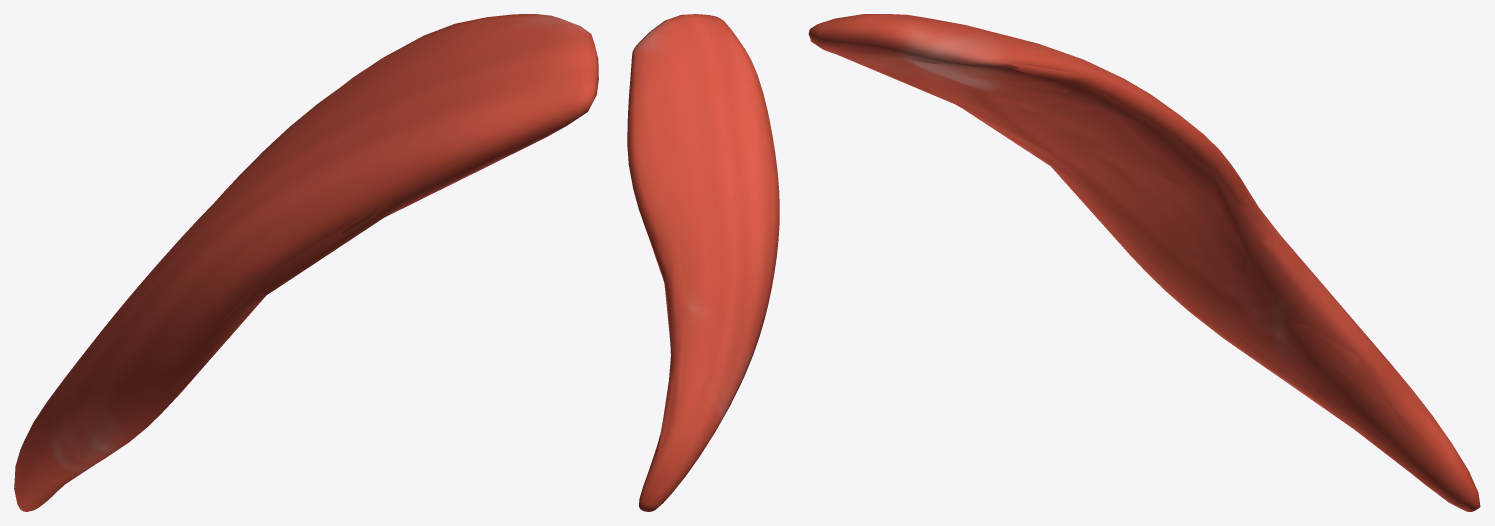
The model's file is R Gluteus Medius.fbx.
3 views of the same model, side by side, from view 1: azimuth 30°, elevation 25°; view 2: azimuth 150°, elevation 25°; view 3: azimuth 270°, elevation 25° (orthographic). The views are drawn at different scales.
Visible parts, largest first — view 1: R Gluteus Medius, R Gluteus Medius low; view 2: R Gluteus Medius, R Gluteus Medius low; view 3: R Gluteus Medius, R Gluteus Medius low.
Part boxes in pixels (bbox=[...]): R Gluteus Medius: bbox=[14, 14, 598, 511]; R Gluteus Medius low: bbox=[22, 31, 595, 498]; R Gluteus Medius: bbox=[627, 14, 779, 511]; R Gluteus Medius low: bbox=[640, 15, 749, 505]; R Gluteus Medius: bbox=[808, 14, 1480, 511]; R Gluteus Medius low: bbox=[839, 17, 1466, 476].
Bounding box in the file's own units: 6.79 × 12.25 × 12.38.
